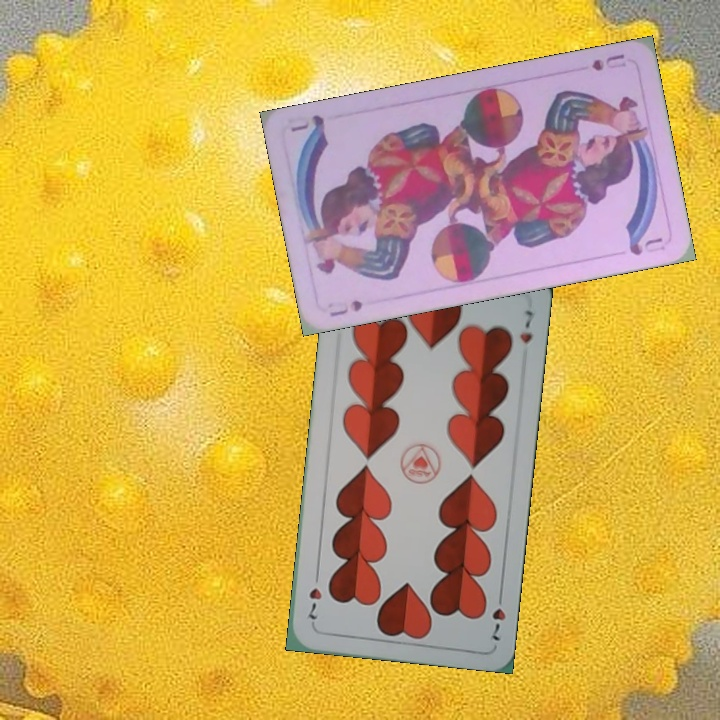H7: (488, 587, 508, 644)
SU: (587, 49, 627, 74), (325, 296, 365, 320)
